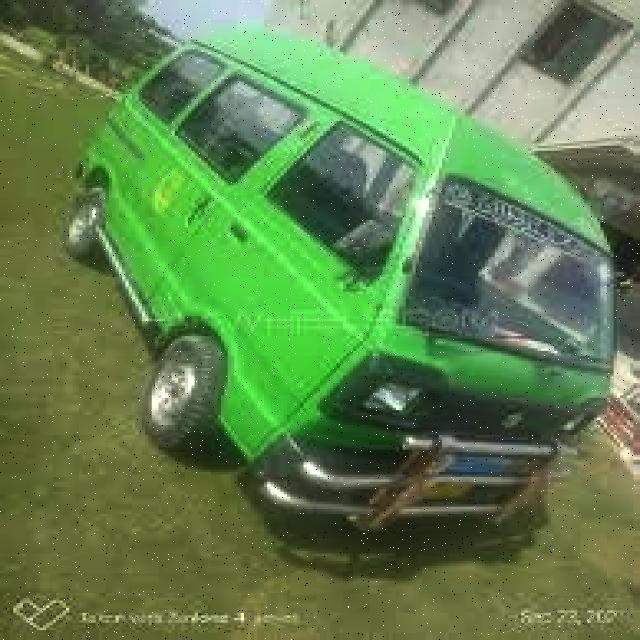Van: (62, 27, 614, 551)
